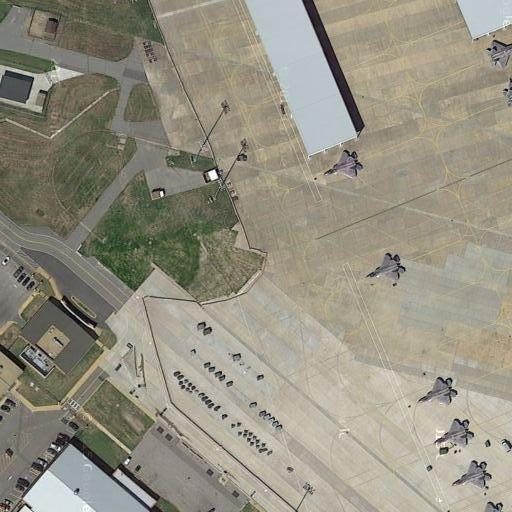F-22: (415, 371, 462, 409), (434, 413, 480, 451), (364, 251, 409, 286), (450, 458, 494, 493), (324, 147, 364, 180), (483, 39, 511, 70)
